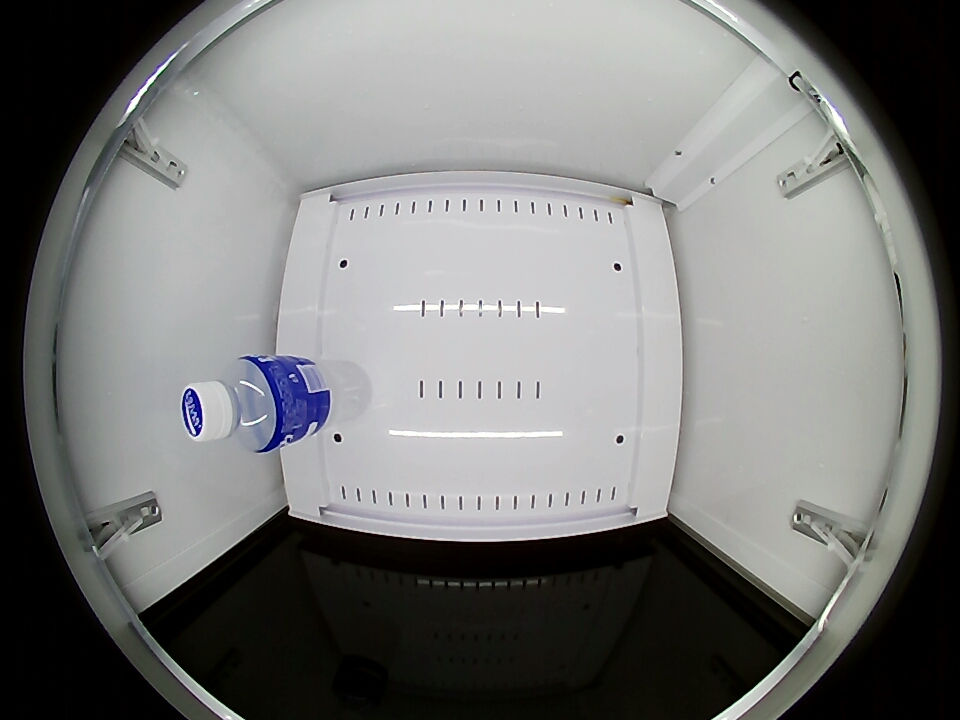baokuangli: (182, 355, 292, 453)
